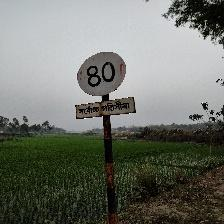Speed-limit: (75, 51, 134, 120)
